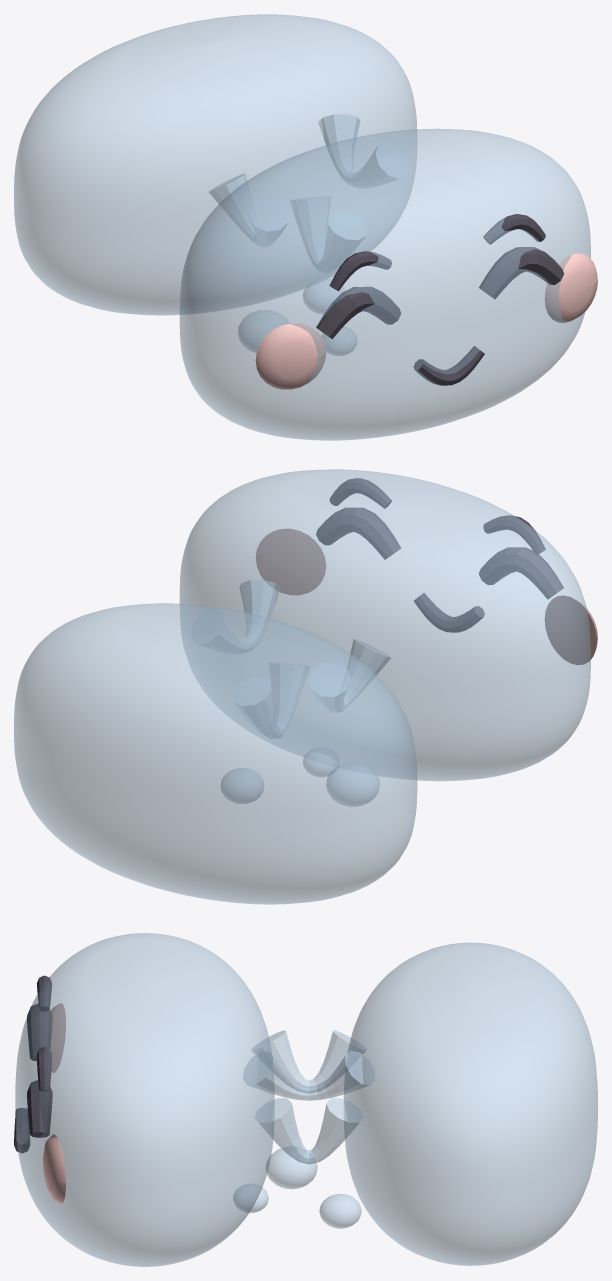
The model's file is jelly-friends-playroom-jelly-pebble-pulled-apart-60859797__27603.glb.
3 views of the same model, one above another, from view 1: azimuth 30°, elevation 25°; view 2: azimuth 150°, elevation 25°; view 3: azimuth 270°, elevation 25° (orthographic). The views are drawn at different scales.
Visible parts, largest first — view 1: body, half-back, strands, blush-left, blush-right, eye-left, eye-right, mouth, brow-left, brow-right; view 2: half-back, body, strands, blush-right, blush-left, eye-right, eye-left, mouth, brow-left, brow-right; view 3: body, half-back, strands, blush-right, eye-right, eye-left, blush-left, mouth, brow-right, brow-left.
Boxes of the visible parts, x1,y1,x2,y2 form: body: (179, 128, 590, 440); half-back: (14, 14, 416, 315); strands: (209, 114, 408, 355); blush-left: (255, 323, 326, 389); blush-right: (544, 253, 597, 322); eye-left: (316, 286, 401, 339); eye-right: (479, 247, 563, 299); mouth: (413, 346, 484, 385); brow-left: (329, 251, 391, 291); brow-right: (483, 214, 545, 244); half-back: (14, 603, 417, 904); body: (179, 469, 590, 781); strands: (190, 580, 390, 806); blush-right: (255, 528, 326, 595); blush-left: (544, 595, 597, 664); eye-right: (316, 507, 400, 559); eye-left: (479, 547, 563, 599); mouth: (414, 593, 484, 632); brow-left: (483, 515, 545, 554); brow-right: (329, 478, 391, 508); body: (15, 933, 274, 1266); half-back: (343, 942, 597, 1265); strands: (233, 1030, 374, 1228); blush-right: (43, 1134, 65, 1203); eye-right: (27, 1080, 52, 1137); eye-left: (27, 1003, 52, 1061); blush-left: (50, 1003, 65, 1072); mouth: (14, 1108, 30, 1153); brow-right: (37, 1046, 51, 1091); brow-left: (37, 975, 51, 1011).
Bounding box in the file's own units: 0.2645 × 0.1554 × 0.3584.
